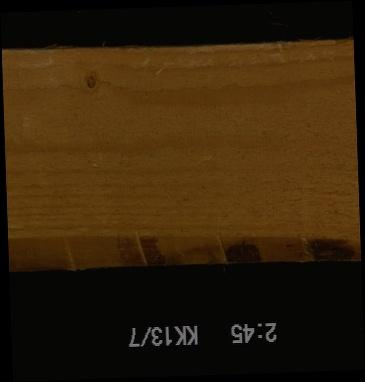dry_knot: (84, 75, 98, 91)
wave: (7, 230, 359, 265)
